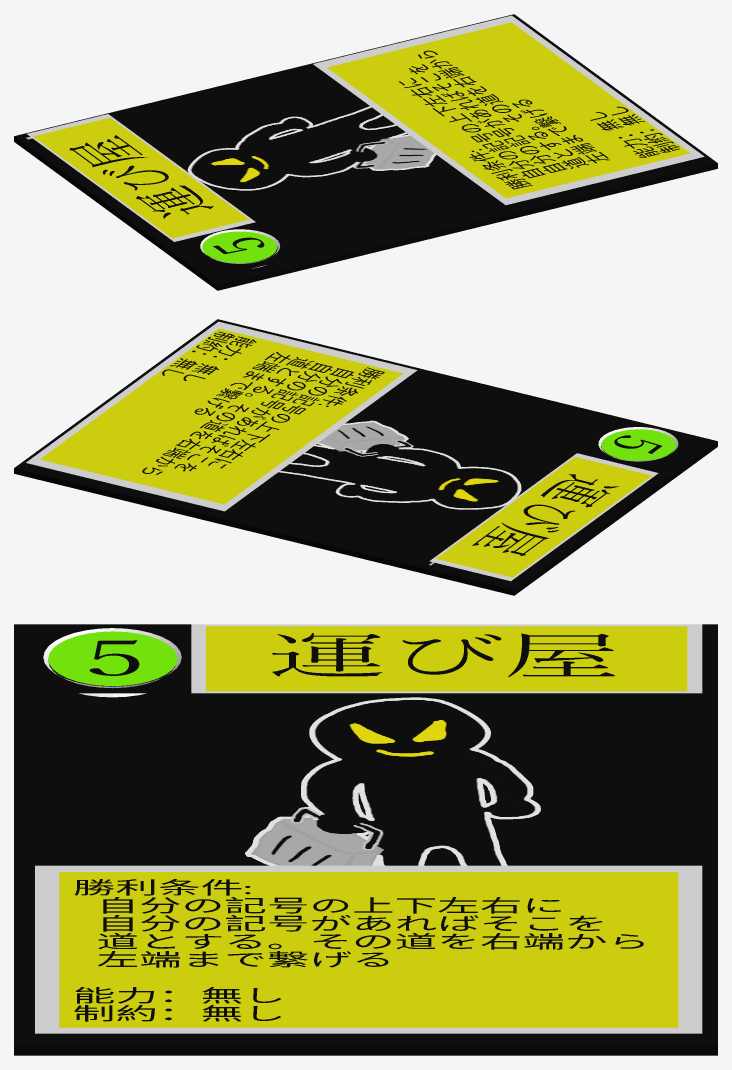
File: 運び屋黒.fbx
3 renders of one model, top to bottom at view 1: azimuth 30°, elevation 25°; view 2: azimuth 150°, elevation 25°; view 3: azimuth 270°, elevation 25°, orthographic. The views are drawn at different scales.
Visible parts, largest first — view 1: カード本体.001, 説明欄, 平面.001, 名前欄, 説明文, 円, 平面, 名前; view 2: カード本体.001, 説明欄, 平面.001, 名前欄, 説明文, 円, 平面, 名前; view 3: カード本体.001, 説明欄, 平面.001, 名前欄, 説明文, 平面, 円, 名前, コスト蘭.
Part boxes in pixels (left/top/right/bottom): カード本体.001: left=14, top=14, right=717, bottom=290; 説明欄: left=313, top=15, right=704, bottom=205; 平面.001: left=187, top=106, right=436, bottom=190; 名前欄: left=27, top=114, right=255, bottom=241; 説明文: left=399, top=50, right=679, bottom=189; 円: left=202, top=231, right=276, bottom=262; 平面: left=174, top=222, right=302, bottom=275; 名前: left=69, top=135, right=213, bottom=218; カード本体.001: left=14, top=319, right=717, bottom=595; 説明欄: left=26, top=321, right=417, bottom=511; 平面.001: left=278, top=420, right=521, bottom=509; 名前欄: left=429, top=453, right=658, bottom=581; 説明文: left=142, top=331, right=384, bottom=474; 円: left=601, top=429, right=675, bottom=460; 平面: left=577, top=419, right=704, bottom=472; 名前: left=472, top=474, right=618, bottom=555; カード本体.001: left=14, top=624, right=717, bottom=1055; 説明欄: left=35, top=865, right=702, bottom=1033; 平面.001: left=245, top=697, right=540, bottom=865; 名前欄: left=191, top=624, right=702, bottom=693; 説明文: left=74, top=879, right=643, bottom=1021; 平面: left=30, top=624, right=191, bottom=693; 円: left=48, top=631, right=177, bottom=686; 名前: left=272, top=633, right=614, bottom=676; コスト蘭: left=43, top=628, right=181, bottom=697.
Bounding box in the file's own units: 281 × 6.07 × 198.
